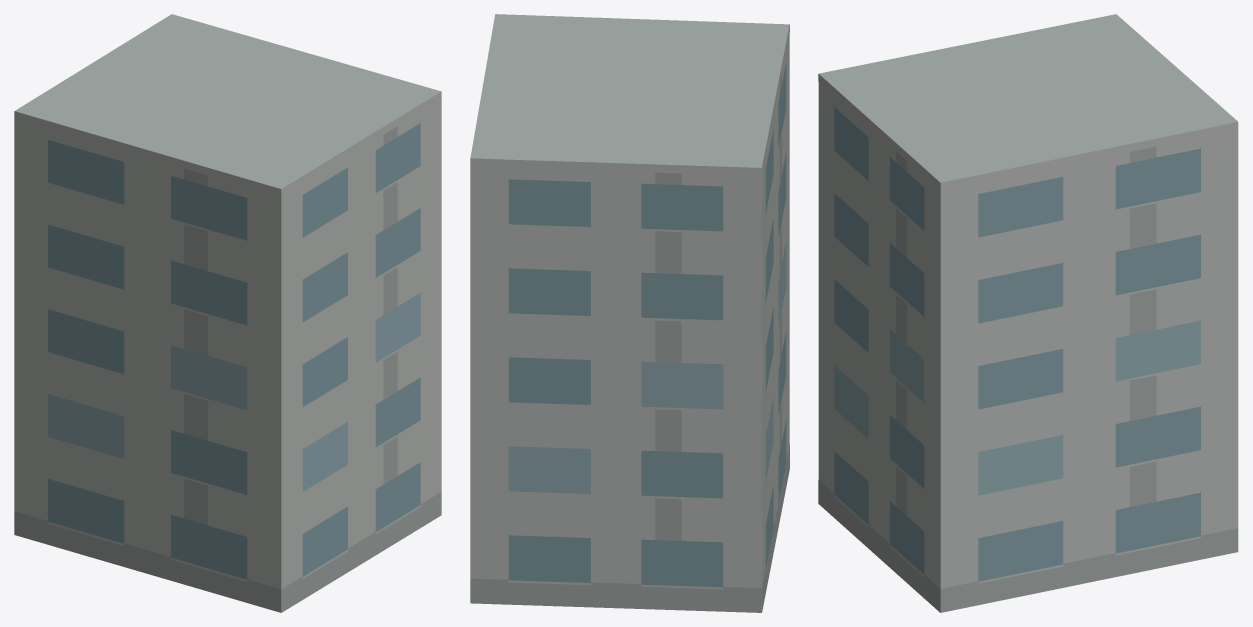
Rendered from survey-upis-32536149.glb.
The picture shows the model from 3 angles, left to right: view 1: azimuth 30°, elevation 25°; view 2: azimuth 150°, elevation 25°; view 3: azimuth 270°, elevation 25°; orthographic projection. The views are drawn at different scales.
Parts seen in each view (by area): view 1: survey-upis-32536149.tmp; view 2: survey-upis-32536149.tmp; view 3: survey-upis-32536149.tmp.
Part boxes in pixels (x1,y1,x2,y2): survey-upis-32536149.tmp: [14, 14, 441, 612]; survey-upis-32536149.tmp: [470, 14, 789, 612]; survey-upis-32536149.tmp: [818, 14, 1238, 612].
Bounding box in the file's own units: 10.99 × 13.05 × 11.55.
